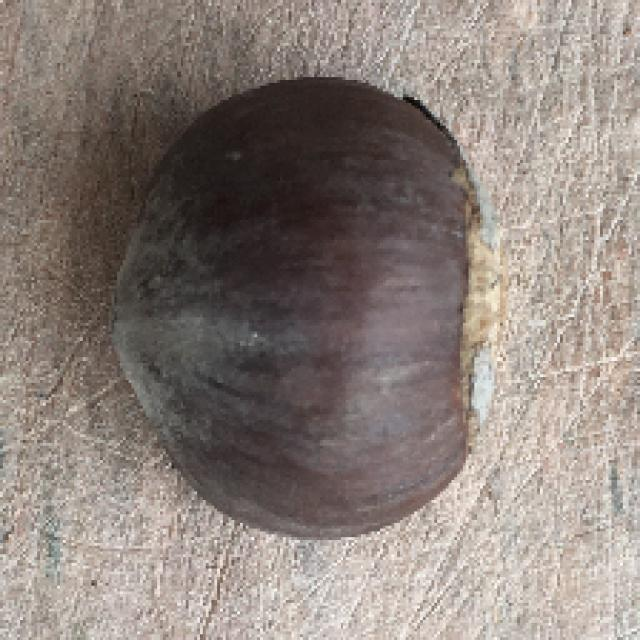damagedHazelnut: (112, 64, 509, 539)
